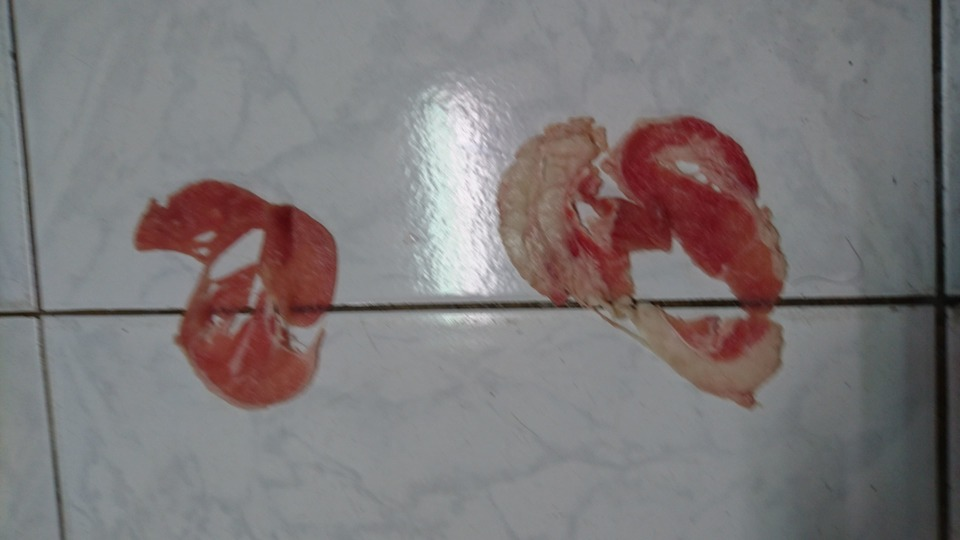restructured meat: (496, 108, 782, 421), (134, 175, 337, 409)
